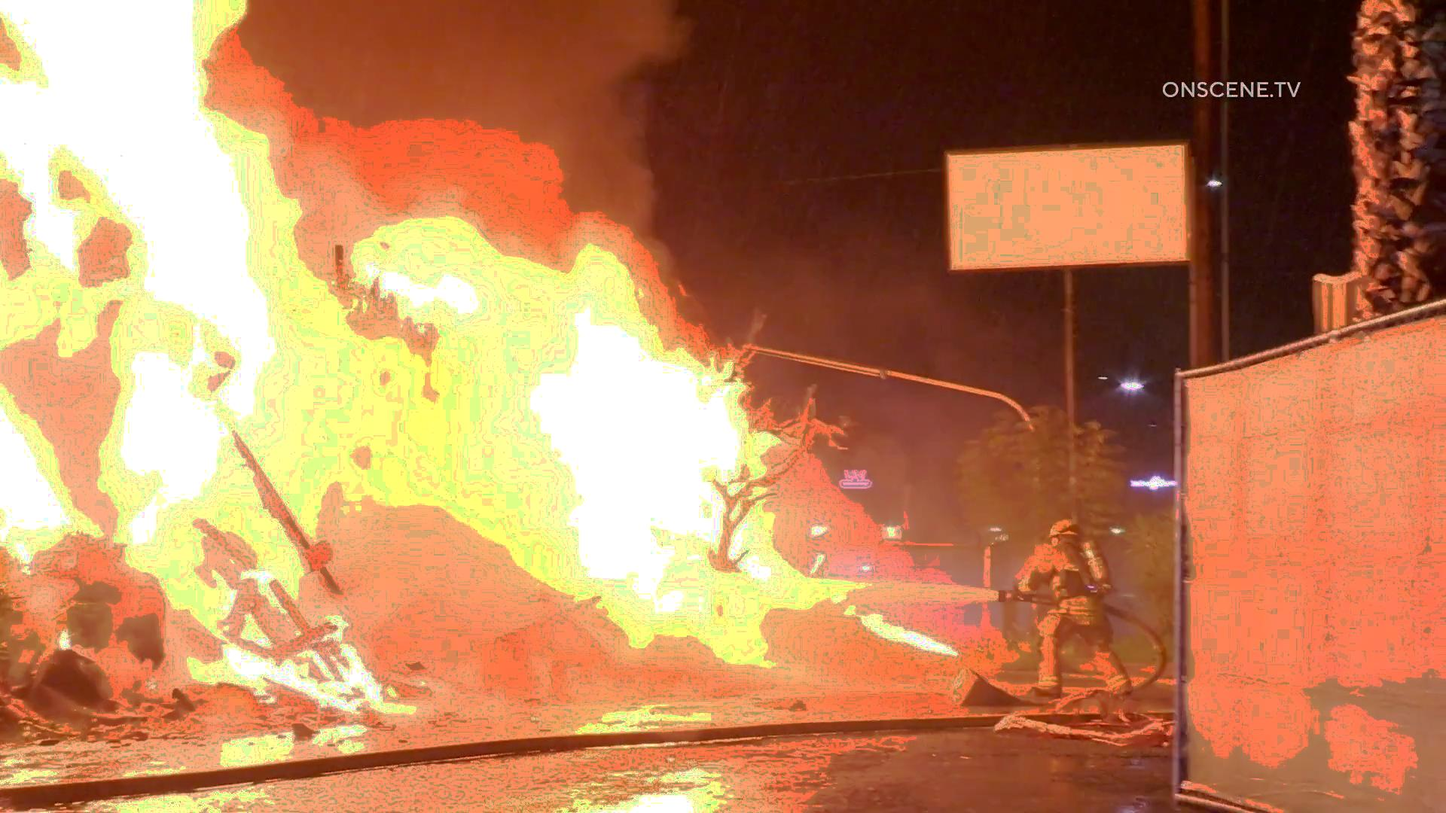fire: (281, 240, 712, 571), (0, 17, 245, 562)
smoke: (335, 0, 637, 190)
